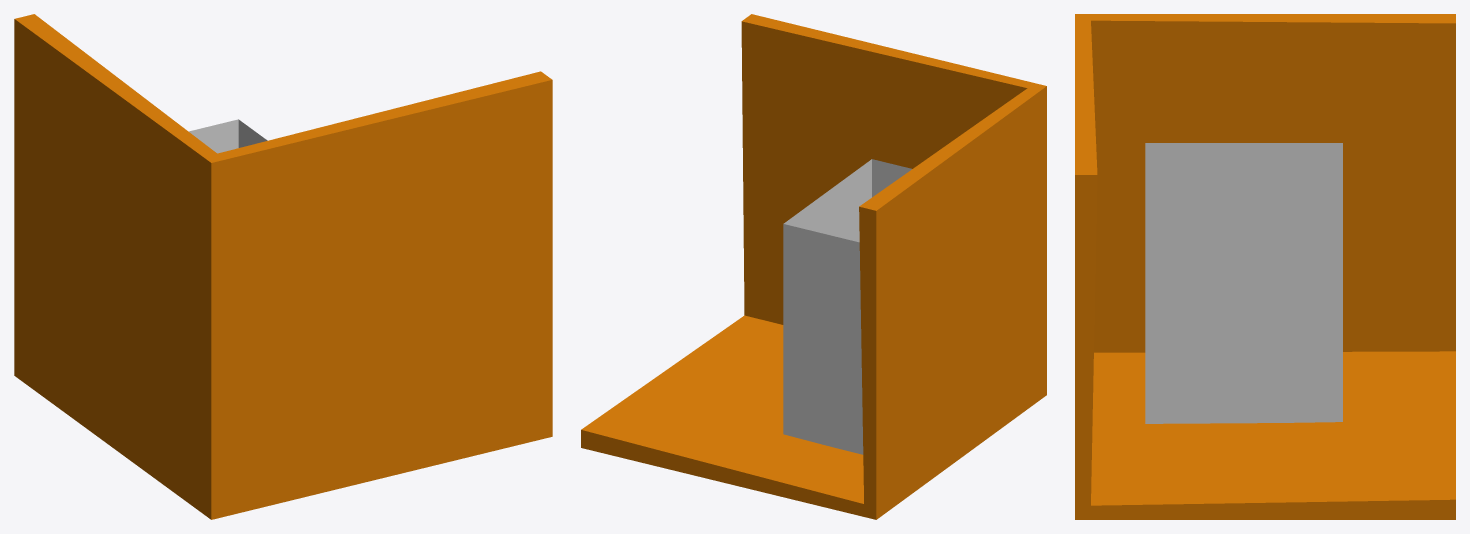
The model's file is room_with_container.glb.
3 renders of one model, left to right at view 1: azimuth 30°, elevation 25°; view 2: azimuth 150°, elevation 25°; view 3: azimuth 270°, elevation 25°, orthographic. The views are drawn at different scales.
Parts seen in each view (by area): view 1: Cube, Cube.003; view 2: Cube, Cube.003; view 3: Cube, Cube.003.
Boxes of the visible parts, bbox=[...] form: Cube: bbox=[14, 14, 552, 519]; Cube.003: bbox=[189, 119, 267, 153]; Cube: bbox=[581, 14, 1046, 519]; Cube.003: bbox=[783, 159, 911, 454]; Cube: bbox=[1075, 14, 1455, 519]; Cube.003: bbox=[1145, 143, 1342, 423].
Size of the model in its own units: 2 by 2.02 by 2.
